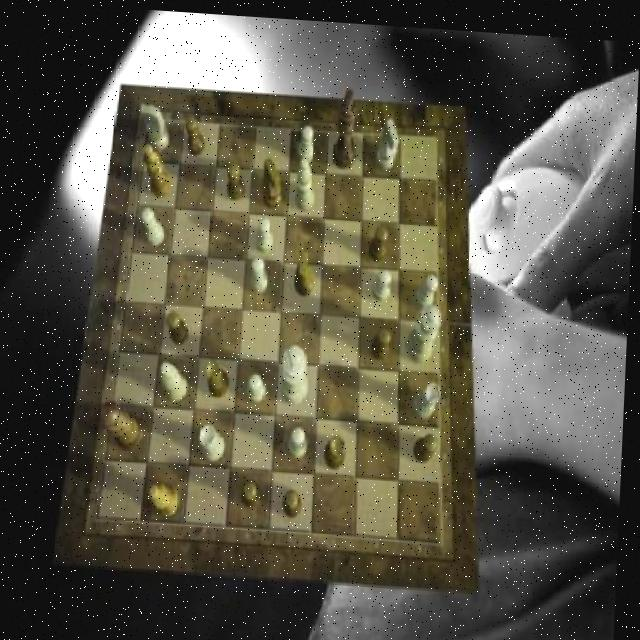bishop: (142, 142, 174, 197), (152, 479, 184, 515)
black-bishop: (334, 84, 359, 165)
black-king: (262, 154, 284, 206), (296, 247, 318, 293)
black-knight: (184, 115, 205, 154), (168, 308, 191, 343), (416, 427, 441, 457), (370, 220, 390, 257), (373, 322, 394, 357), (228, 159, 247, 197), (244, 477, 265, 506), (286, 485, 305, 514)
black-pawn: (101, 398, 149, 448)
black-queen: (207, 355, 233, 395), (328, 429, 350, 464)
black-rook: (296, 153, 317, 208), (162, 360, 191, 399)
white-bishop: (284, 340, 313, 402)
white-king: (141, 102, 172, 147), (375, 113, 400, 166)
white-knight: (142, 205, 167, 244), (416, 269, 440, 304), (373, 263, 393, 298), (298, 121, 316, 159), (253, 254, 271, 291), (292, 422, 312, 454), (258, 213, 276, 248), (250, 369, 269, 399)
white-pawn: (408, 296, 444, 358)
white-queen: (416, 375, 444, 414), (201, 421, 229, 458)
